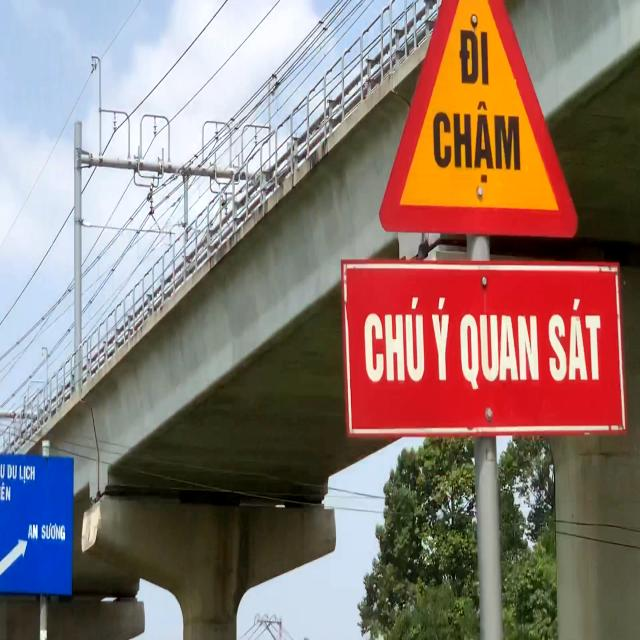W.245a: (371, 0, 582, 248)
